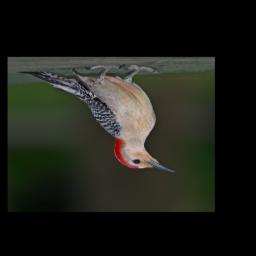Woodpecker: (17, 64, 179, 175)
